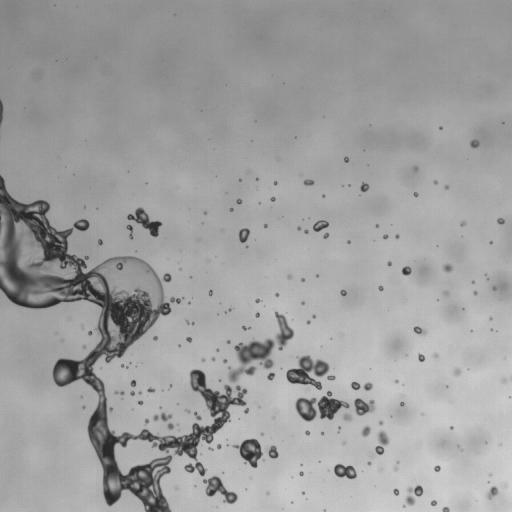droplet: (285, 355, 335, 390), (233, 438, 278, 468), (404, 485, 423, 505), (153, 412, 175, 429), (354, 398, 375, 415), (334, 464, 356, 479), (313, 220, 328, 231), (486, 486, 498, 499), (238, 228, 249, 242), (413, 326, 426, 335), (361, 425, 371, 436), (401, 266, 411, 275), (470, 139, 479, 148), (360, 182, 369, 191), (442, 264, 452, 272), (342, 413, 352, 421), (267, 372, 275, 380), (304, 179, 314, 185), (418, 353, 425, 361), (453, 368, 460, 375), (147, 387, 155, 393), (497, 218, 504, 224), (393, 488, 399, 495), (434, 465, 440, 471), (430, 500, 436, 506), (442, 506, 449, 511), (242, 326, 250, 330), (236, 199, 242, 204), (460, 221, 466, 226), (340, 290, 346, 295), (130, 380, 135, 386), (144, 418, 149, 424), (270, 196, 275, 201), (323, 233, 328, 238), (383, 234, 388, 239), (255, 298, 260, 303), (186, 337, 191, 342), (501, 378, 506, 383), (344, 156, 348, 162), (98, 239, 102, 245), (209, 289, 213, 295), (413, 192, 418, 196), (387, 261, 391, 266), (287, 274, 291, 279), (378, 286, 383, 290), (443, 291, 448, 295), (473, 290, 477, 295), (255, 312, 259, 317), (222, 359, 227, 363), (137, 400, 142, 404), (244, 408, 248, 413), (305, 430, 309, 435), (217, 444, 221, 449), (393, 467, 398, 471), (299, 471, 303, 476), (273, 181, 277, 185), (433, 180, 437, 184), (444, 185, 448, 189), (304, 229, 308, 233), (395, 234, 399, 238), (492, 286, 496, 290), (306, 320, 310, 324), (88, 331, 92, 335), (153, 336, 157, 340), (433, 353, 437, 357), (201, 358, 205, 362), (394, 379, 398, 383), (130, 391, 134, 395), (379, 421, 383, 425), (367, 461, 371, 465), (503, 483, 507, 487), (185, 409, 190, 412), (414, 166, 417, 170), (275, 293, 279, 296), (400, 402, 404, 405), (379, 467, 383, 470), (297, 227, 300, 230), (347, 240, 350, 243), (301, 278, 304, 281), (83, 345, 86, 348), (212, 357, 215, 360), (138, 391, 141, 394), (450, 426, 453, 429), (209, 447, 212, 450), (338, 427, 340, 431), (439, 126, 441, 129), (230, 208, 232, 211), (264, 225, 267, 227), (301, 302, 304, 304), (312, 315, 315, 317), (489, 317, 492, 319), (186, 321, 189, 323), (227, 340, 229, 343), (82, 406, 85, 408), (266, 492, 269, 494), (239, 179, 241, 181), (204, 211, 206, 213), (376, 224, 378, 226), (229, 308, 231, 310), (81, 325, 83, 327), (121, 365, 123, 367), (169, 386, 171, 388), (321, 432, 323, 434), (343, 442, 345, 444), (461, 448, 463, 450), (489, 474, 491, 476), (302, 492, 304, 494)
ligament: (0, 175, 246, 511), (228, 312, 294, 382), (294, 391, 349, 421), (127, 207, 161, 236), (203, 476, 236, 503), (374, 430, 389, 454), (351, 381, 372, 390), (126, 224, 133, 239), (0, 99, 3, 125), (114, 390, 124, 395), (0, 222, 1, 233)
